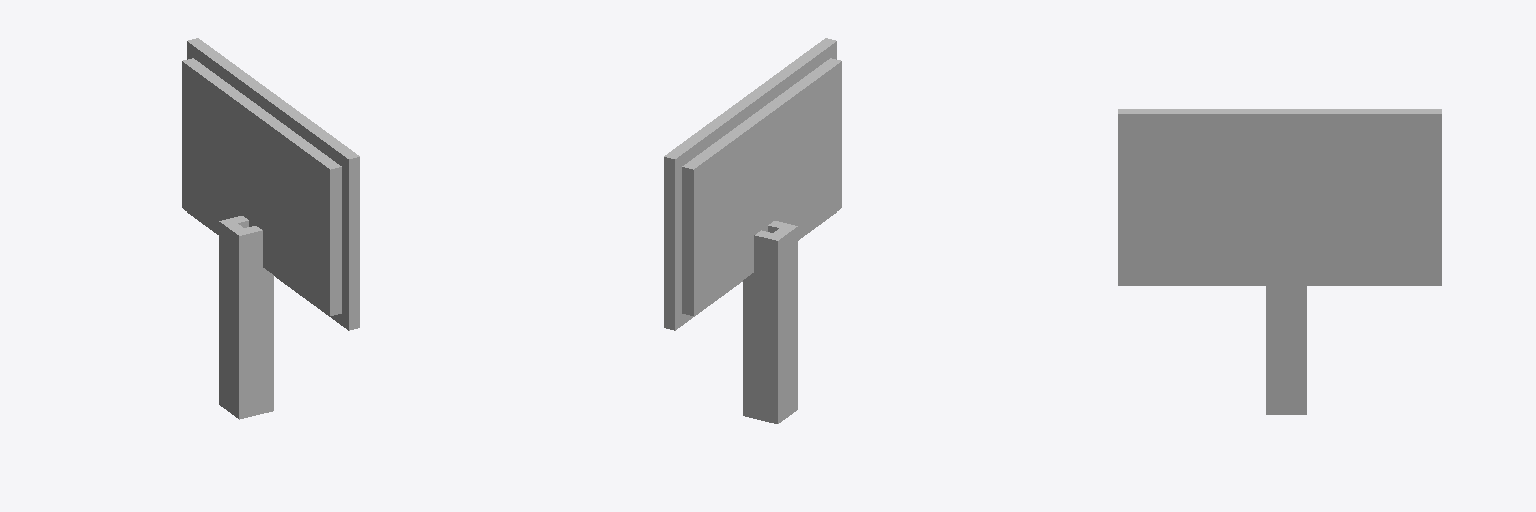
The model's file is board.obj.
3 renders of one model, left to right at view 1: azimuth 30°, elevation 25°; view 2: azimuth 150°, elevation 25°; view 3: azimuth 270°, elevation 25°, orthographic.
Size of the model in its own units: 4 by 25 by 24.